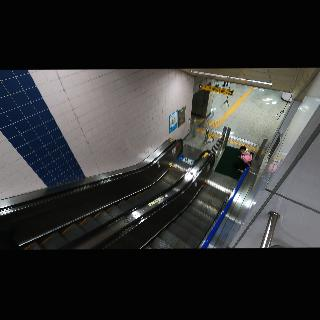anomaly: (232, 146, 256, 175)
